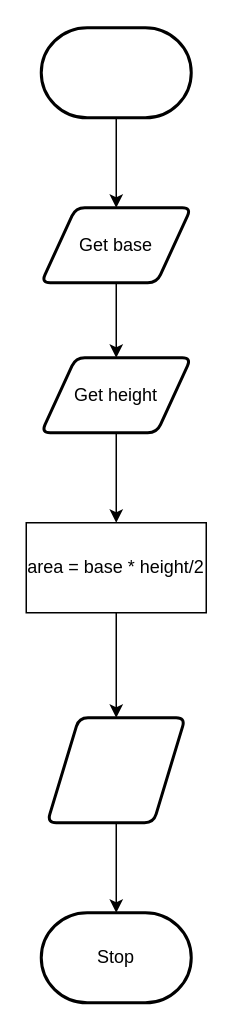
The diagram is 233 pixels wide and 1029 high, and some of its shapes have lost their labels. The shapes that lost their labels are listed below. From the top down, each one's box as (x1, y1, x2, y2) in pixels, then its label:
(39, 26, 192, 118): Start
(45, 716, 186, 824): print "The area is {0} cm²" . format ( area ))
